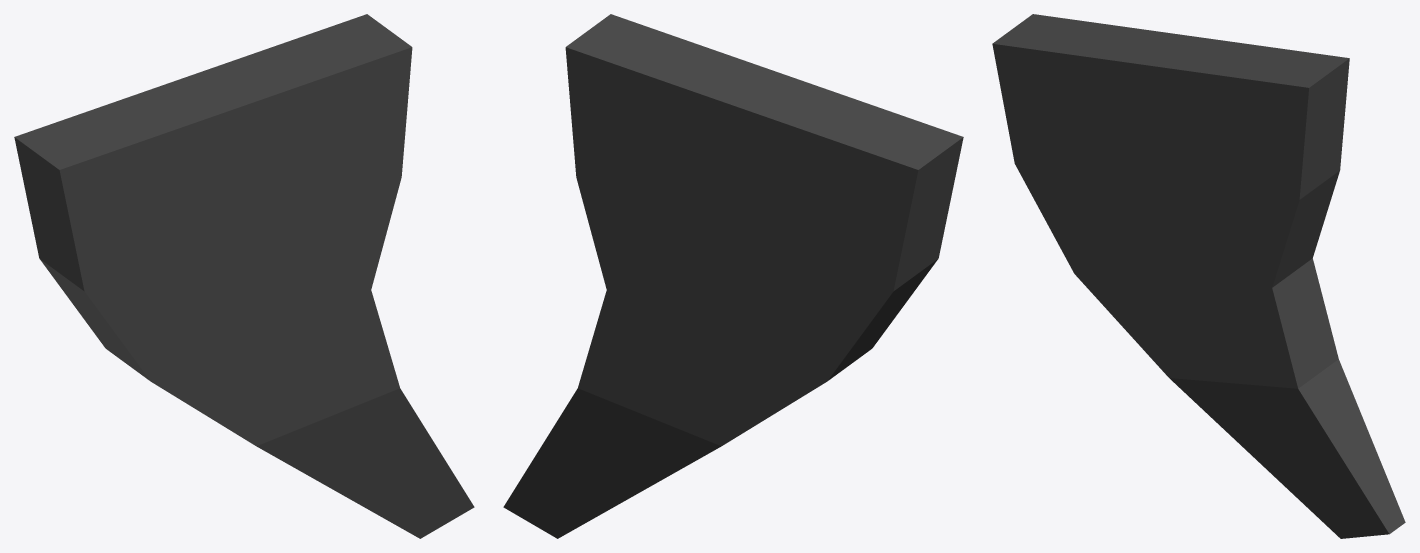
Rendered from Pistol4_04_3.fbx.
3 views of the same model, side by side, from view 1: azimuth 30°, elevation 25°; view 2: azimuth 150°, elevation 25°; view 3: azimuth 330°, elevation 25° (orthographic). The views are drawn at different scales.
Parts seen in each view (by area): view 1: Pistol4_04_3; view 2: Pistol4_04_3; view 3: Pistol4_04_3.
Boxes of the visible parts, bbox=[...] form: Pistol4_04_3: bbox=[14, 14, 474, 538]; Pistol4_04_3: bbox=[503, 14, 963, 538]; Pistol4_04_3: bbox=[992, 14, 1405, 538].
Bounding box in the file's own units: 0.0282 × 0.0319 × 0.00516.
